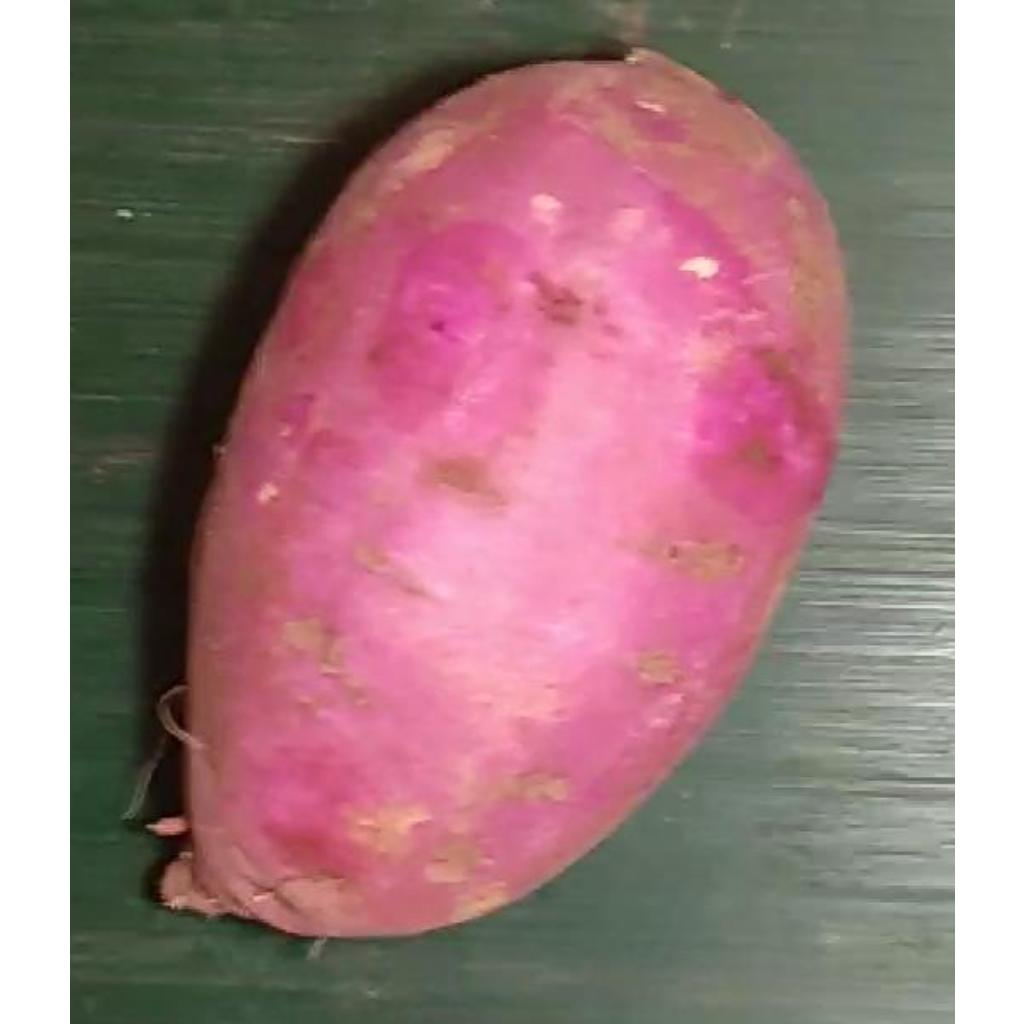Sweet Potato: (157, 47, 851, 943)
